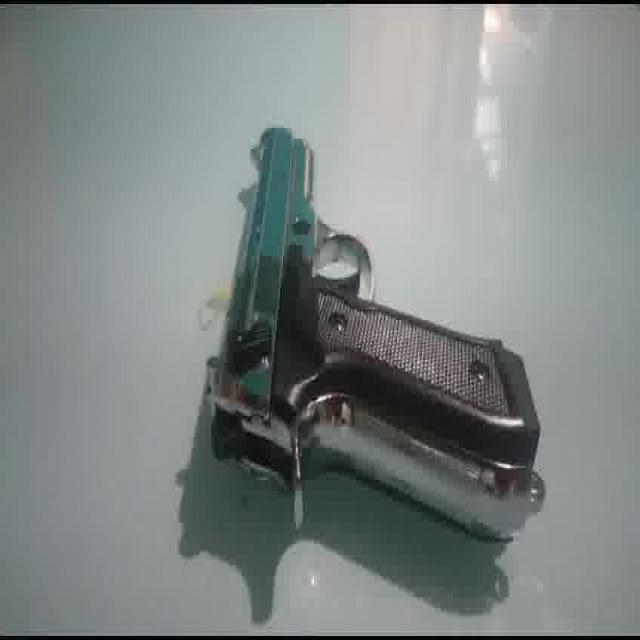weapon: (204, 124, 546, 544)
